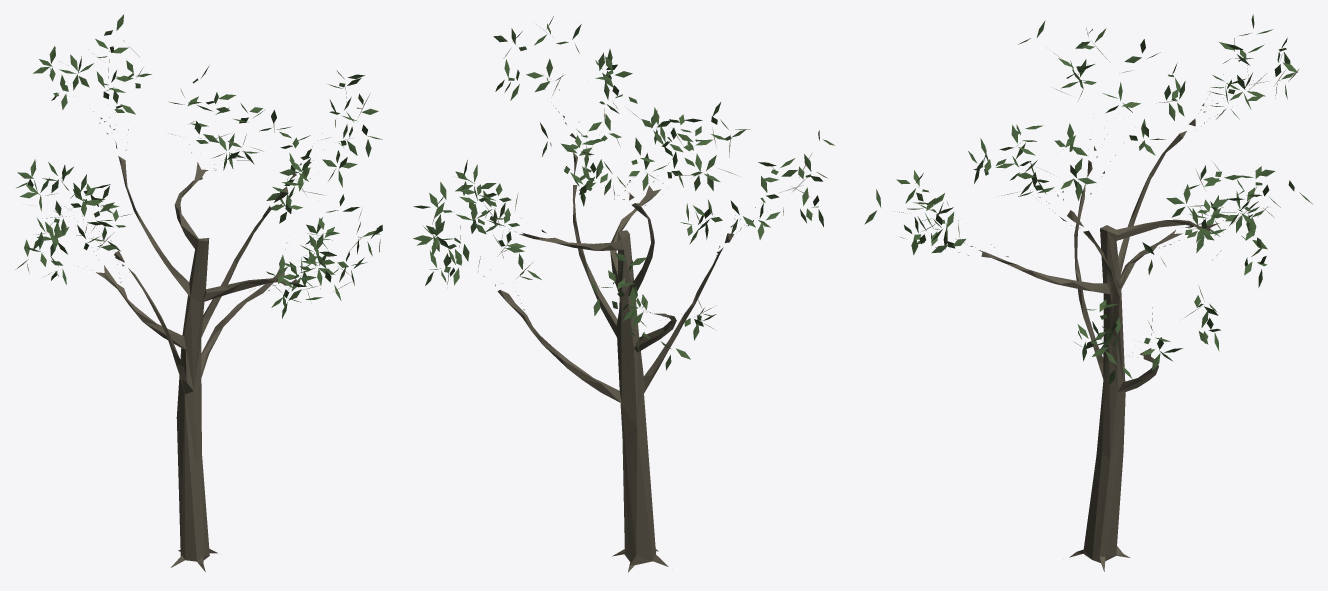
Rendered from CheneVert_0_Niveau2.fbx.
The picture shows the model from 3 angles, left to right: view 1: azimuth 30°, elevation 25°; view 2: azimuth 150°, elevation 25°; view 3: azimuth 270°, elevation 25°; orthographic projection. The views are drawn at different scales.
Parts seen in each view (by area): view 1: CheneVert_0_Niveau2; view 2: CheneVert_0_Niveau2; view 3: CheneVert_0_Niveau2.
Part boxes in pixels (box(x1,y1,x2,y2)): CheneVert_0_Niveau2: box(15, 14, 382, 571); CheneVert_0_Niveau2: box(413, 16, 834, 572); CheneVert_0_Niveau2: box(864, 14, 1312, 571).
Size of the model in its own units: 305 by 373 by 293.
